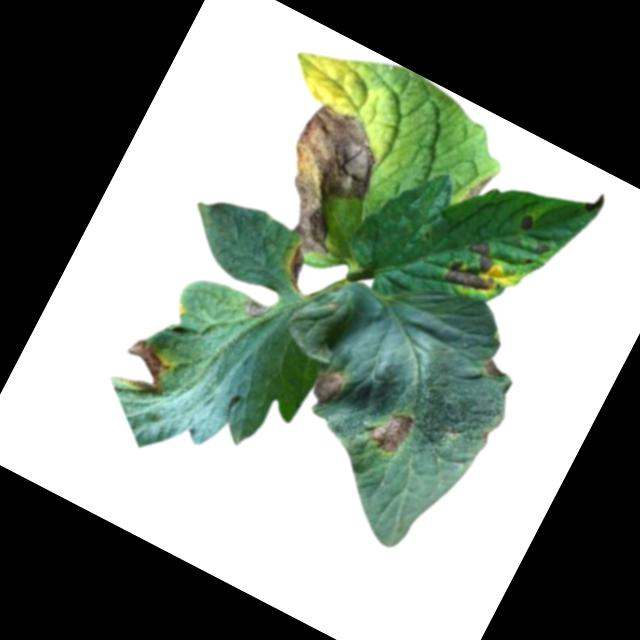Early_blight: (252, 98, 388, 262), (440, 231, 510, 302), (108, 335, 180, 404), (363, 402, 419, 460), (306, 364, 352, 412), (278, 244, 317, 291), (464, 167, 494, 207), (479, 357, 509, 383), (582, 188, 608, 218), (243, 299, 267, 322), (515, 212, 538, 236), (534, 243, 551, 261)
